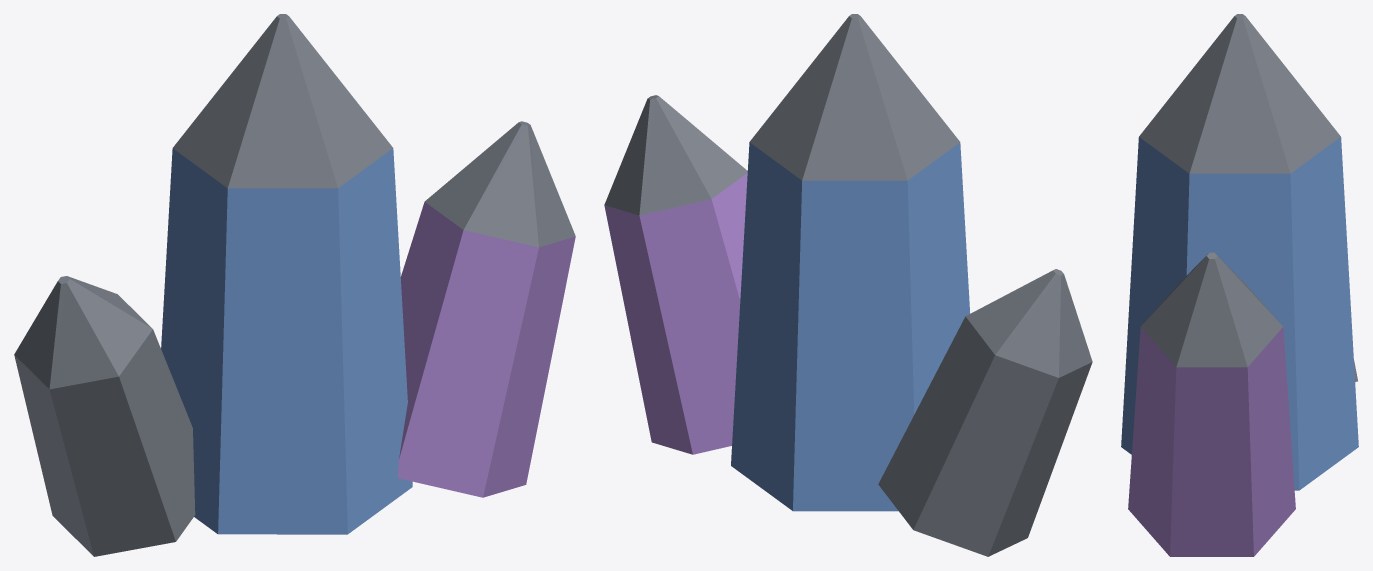
File: deco_ice_shard.obj
3 views of the same model, side by side, from view 1: azimuth 30°, elevation 25°; view 2: azimuth 150°, elevation 25°; view 3: azimuth 270°, elevation 25° (orthographic). The views are drawn at different scales.
Visible parts, largest first — view 1: deco_ice_shard; view 2: deco_ice_shard; view 3: deco_ice_shard.
Boxes of the visible parts, x1=… form: deco_ice_shard: x1=14, y1=14, x2=575, y2=556; deco_ice_shard: x1=604, y1=14, x2=1092, y2=556; deco_ice_shard: x1=1121, y1=14, x2=1358, y2=556.
Bounding box in the file's own units: 0.0377 × 0.036 × 0.017.
1 material, 1 textured.
